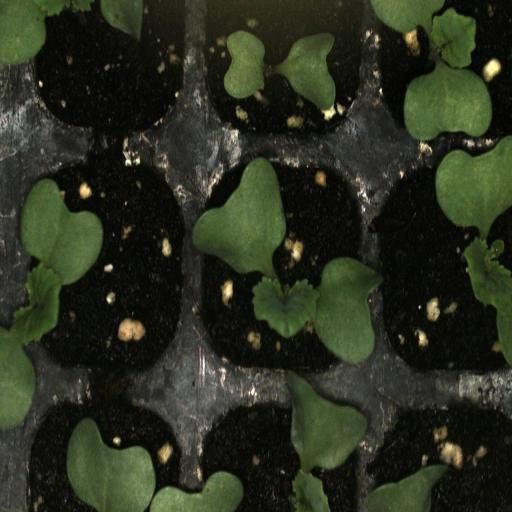Folha: (66, 418, 244, 512), (272, 371, 369, 512), (0, 0, 145, 74), (275, 16, 336, 111), (222, 16, 272, 99), (359, 464, 445, 512)
Germinacao: (0, 138, 191, 387), (191, 146, 368, 382), (368, 145, 512, 381), (196, 0, 368, 146), (368, 0, 512, 143)
